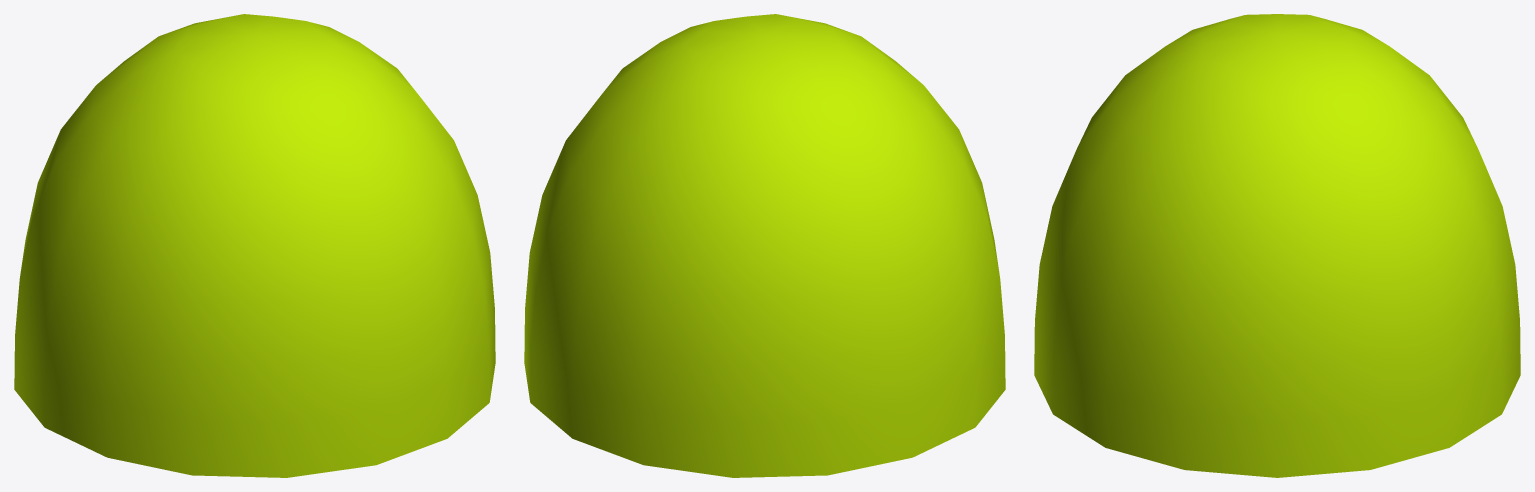
Rendered from bush.fbx.
3 views of the same model, side by side, from view 1: azimuth 30°, elevation 25°; view 2: azimuth 150°, elevation 25°; view 3: azimuth 270°, elevation 25° (orthographic).
Parts seen in each view (by area): view 1: foliage:bush; view 2: foliage:bush; view 3: foliage:bush.
Boxes of the visible parts, x1,y1,x2,y2 form: foliage:bush: (14,14,495,477); foliage:bush: (524,14,1005,477); foliage:bush: (1034,14,1520,477).
Bounding box in the file's own units: 0.1805 × 0.1395 × 0.1805.
